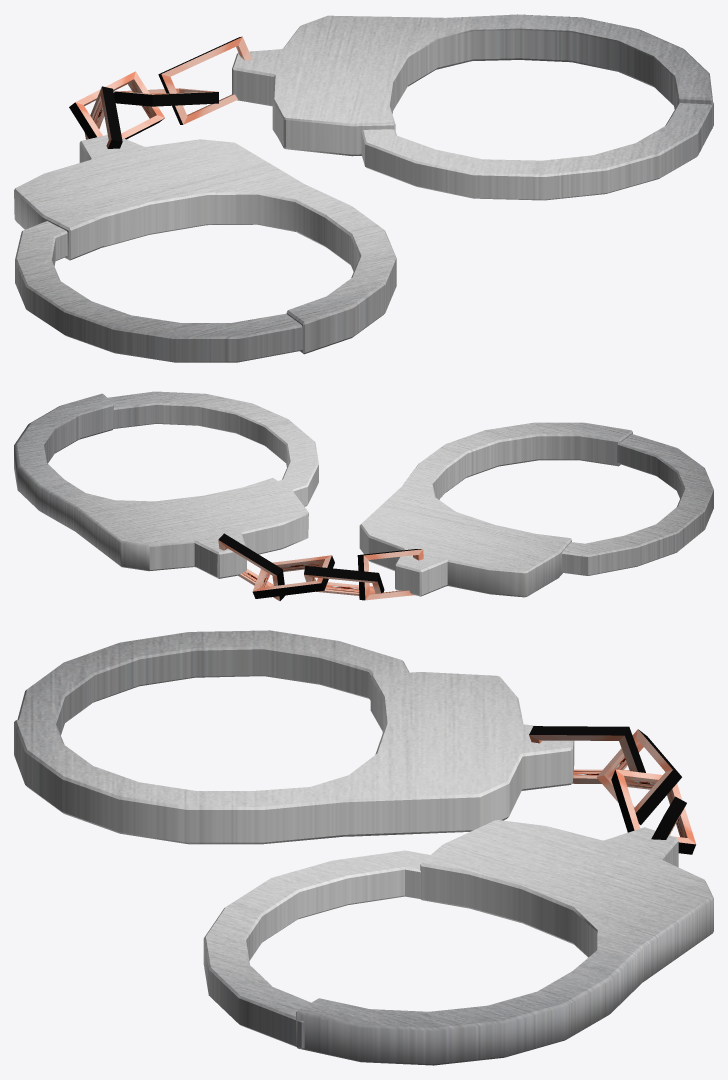
The model's file is Handcuffs.fbx.
3 views of the same model, one above another, from view 1: azimuth 30°, elevation 25°; view 2: azimuth 150°, elevation 25°; view 3: azimuth 270°, elevation 25° (orthographic). The views are drawn at different scales.
Parts seen in each view (by area): view 1: Handcuffs; view 2: Handcuffs; view 3: Handcuffs.
Boxes of the visible parts, <box> form: Handcuffs: <box>14,14,713,362</box>; Handcuffs: <box>14,391,713,600</box>; Handcuffs: <box>14,630,713,1065</box>.
Bounding box in the file's own units: 4.55 × 0.4183 × 3.28.
Materials: 6 (2 with a texture image).
